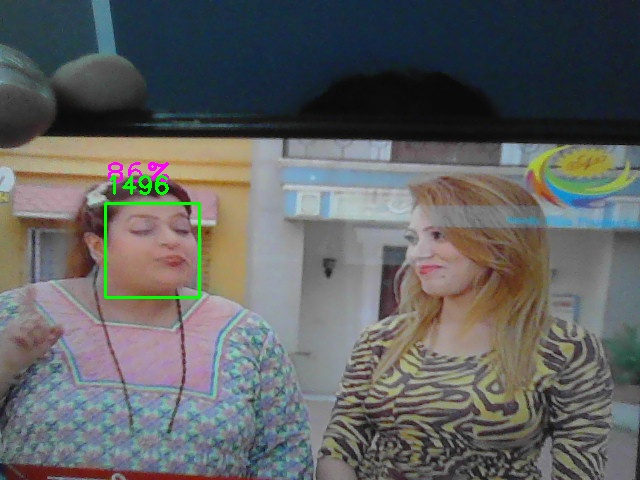fake: (105, 203, 200, 298)
